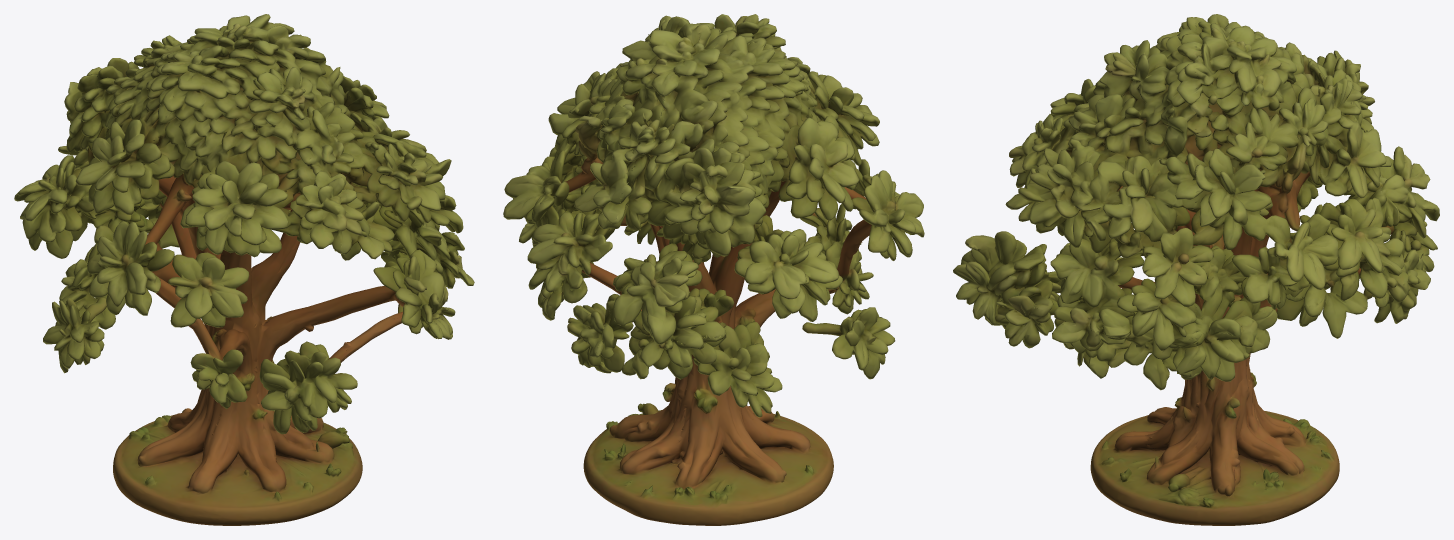
The model's file is tree_meshopt.glb.
3 views of the same model, side by side, from view 1: azimuth 30°, elevation 25°; view 2: azimuth 150°, elevation 25°; view 3: azimuth 270°, elevation 25° (orthographic).
Visible parts, largest first — view 1: tripo_node_ef3370e5-05ab-4f3e-9e62-27947f8e283f; view 2: tripo_node_ef3370e5-05ab-4f3e-9e62-27947f8e283f; view 3: tripo_node_ef3370e5-05ab-4f3e-9e62-27947f8e283f.
Boxes of the visible parts, x1=… form: tripo_node_ef3370e5-05ab-4f3e-9e62-27947f8e283f: x1=14, y1=14, x2=474, y2=525; tripo_node_ef3370e5-05ab-4f3e-9e62-27947f8e283f: x1=503, y1=14, x2=924, y2=525; tripo_node_ef3370e5-05ab-4f3e-9e62-27947f8e283f: x1=953, y1=14, x2=1439, y2=525.
Bounding box in the file's own units: 0.8495 × 0.9791 × 0.9593.
Materials: 1 (1 with a texture image).
